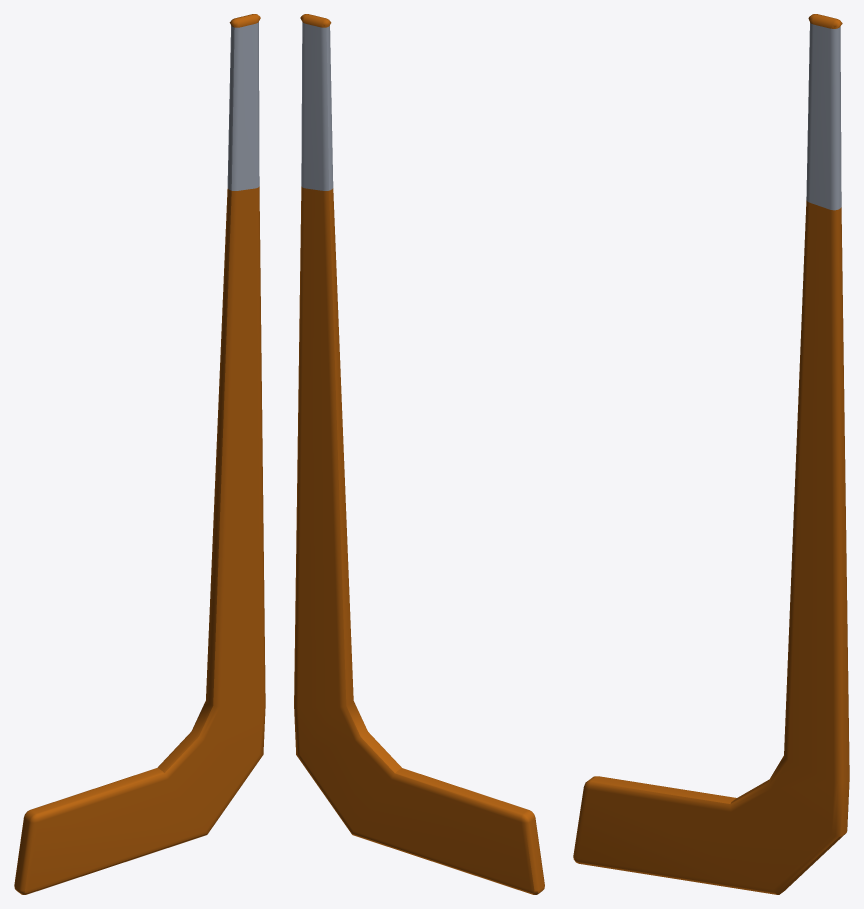
Rendered from Sports_Hockey Stick.fbx.
3 views of the same model, side by side, from view 1: azimuth 30°, elevation 25°; view 2: azimuth 150°, elevation 25°; view 3: azimuth 330°, elevation 25° (orthographic). The views are drawn at different scales.
Parts seen in each view (by area): view 1: pCube112; view 2: pCube112; view 3: pCube112.
Part boxes in pixels (x1,y1,x2,y2): pCube112: (14, 14, 265, 894); pCube112: (294, 14, 544, 894); pCube112: (573, 14, 849, 894).
Size of the model in its own units: 1.2 by 3.85 by 0.0851.
